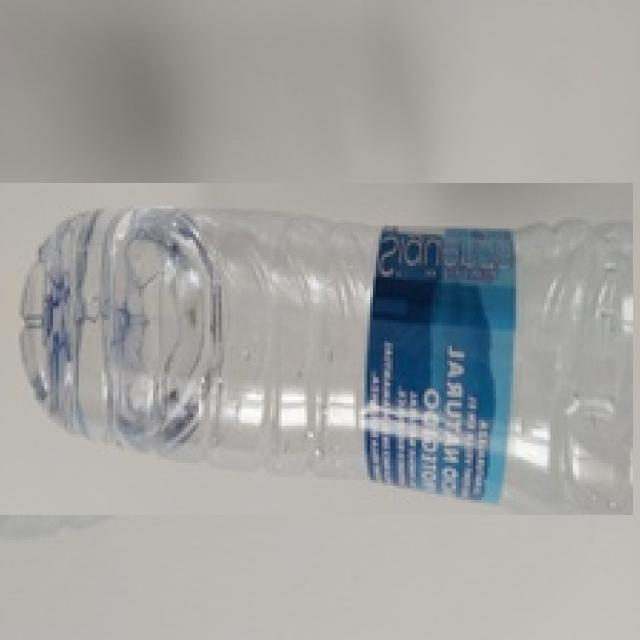bottle: (0, 183, 633, 515)
label: (345, 198, 523, 506)
